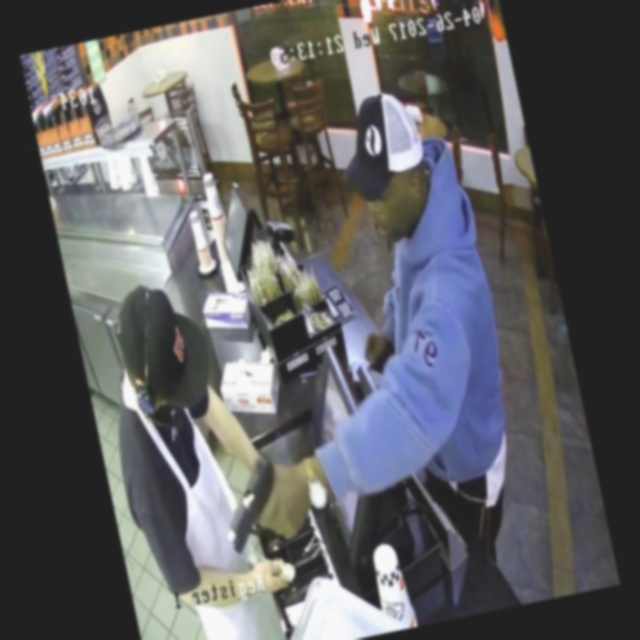gun: (200, 437, 304, 572)
